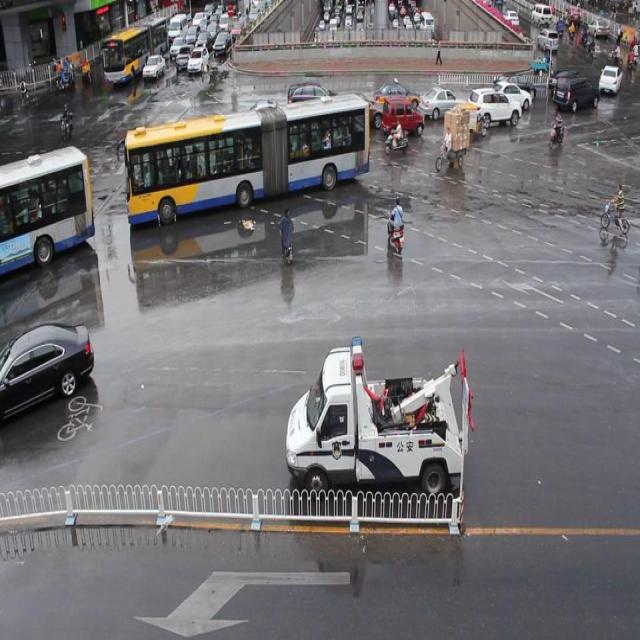bus: (285, 338, 464, 498)
car: (1, 320, 95, 418), (467, 86, 520, 127), (382, 98, 424, 136), (419, 86, 463, 119), (372, 80, 419, 110), (491, 79, 530, 111), (492, 72, 534, 99)
van: (127, 92, 368, 222)
